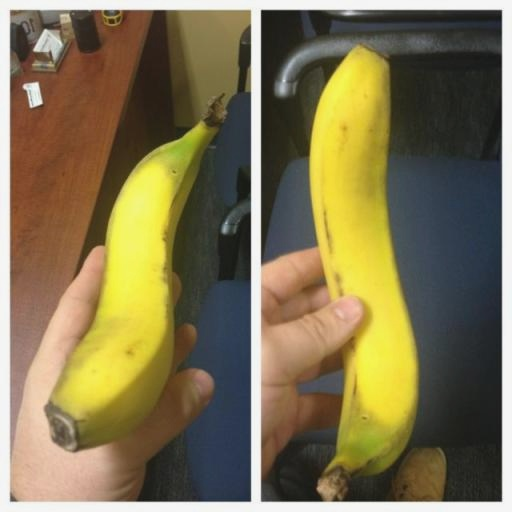fruit: (44, 96, 224, 451), (309, 45, 417, 499)
